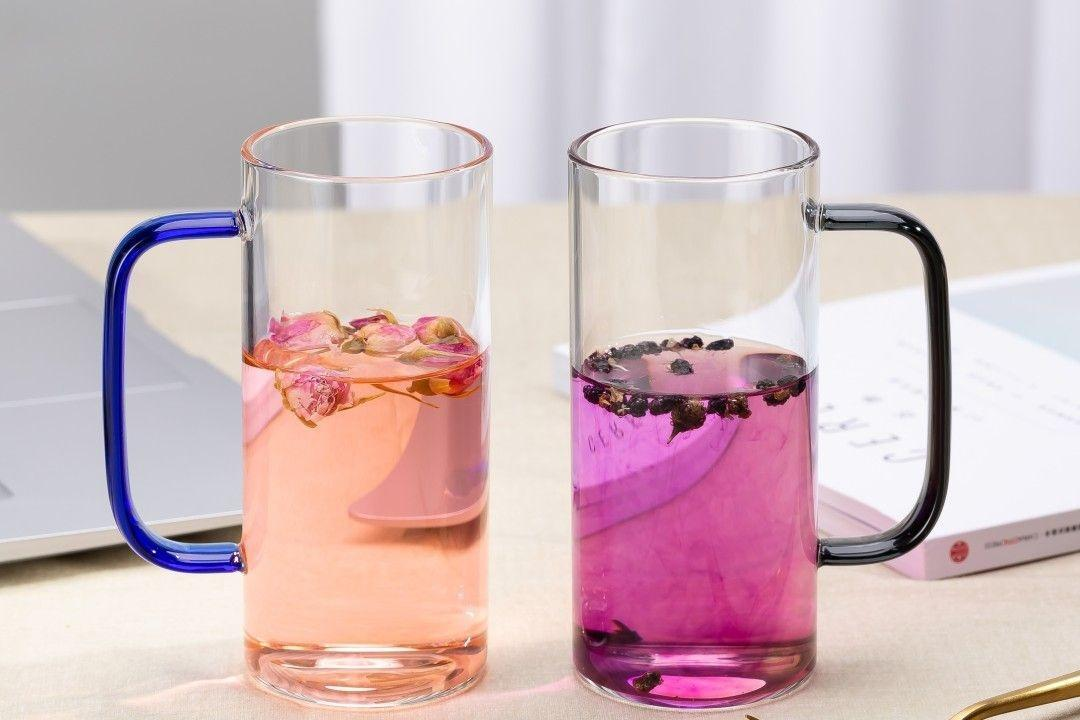glass-mug: (96, 106, 501, 713), (561, 107, 962, 713)
